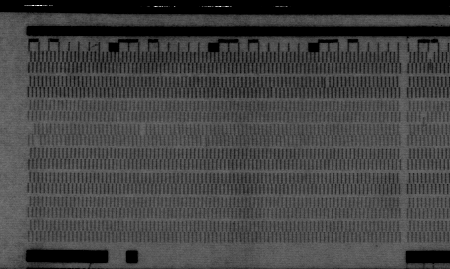Broken hole: (25, 124, 42, 149), (138, 122, 148, 136)
Oblique printing: (198, 134, 211, 149), (426, 51, 438, 67), (321, 76, 333, 91), (418, 110, 429, 125), (266, 86, 278, 99)
